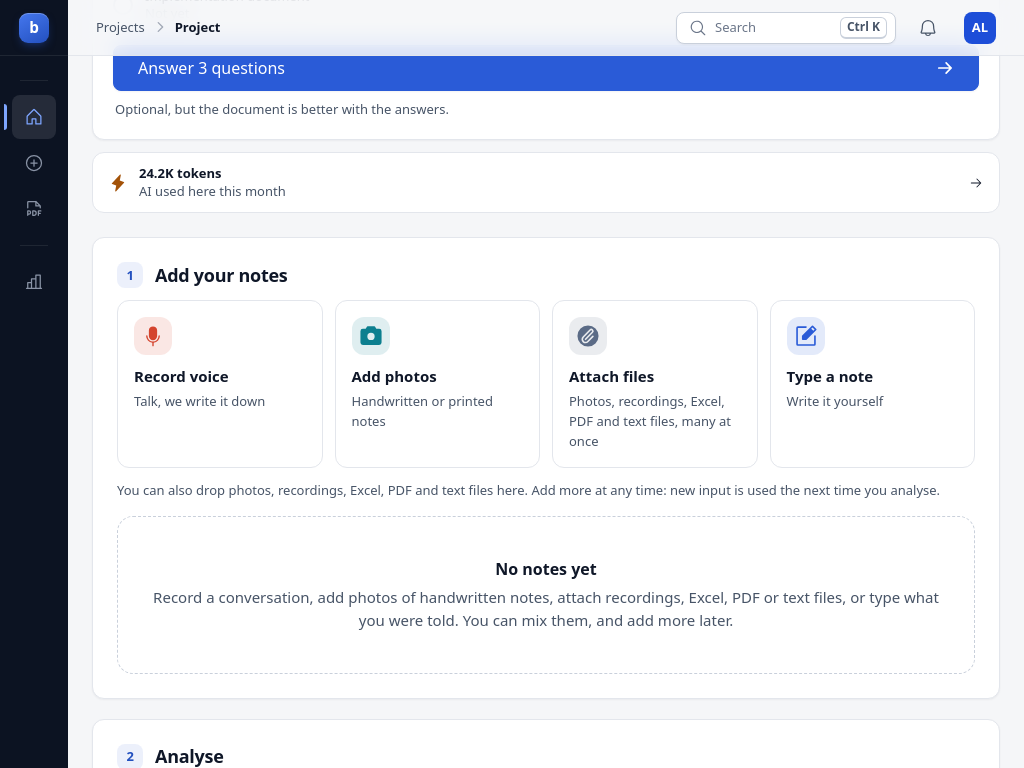
Scenario: the project page: notes › keeps a typed note on the device first, shows it as waiting, and does not save an empty one
(page scrolled)
Click the button "Type a note Write it yourself" at [872, 384], box [770,300,975,468]
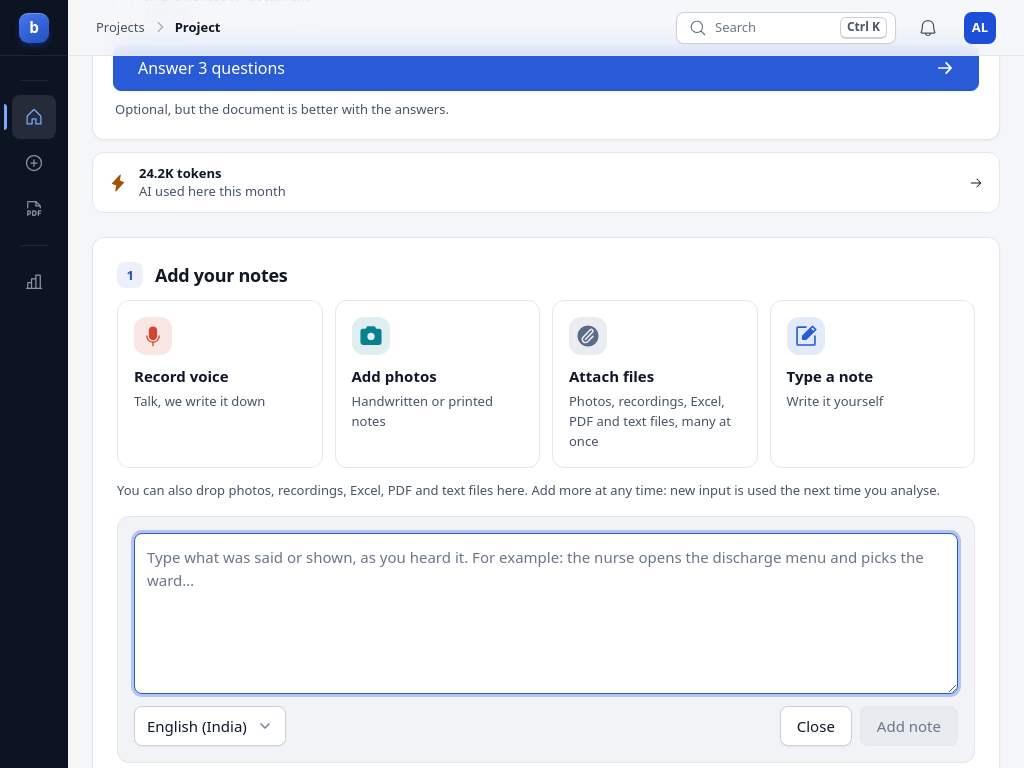
Expected: the button "Add note" is disabled, [860,706,958,746]
Type "The nurse picks the ward." into the text box named "Your note" at [546, 614], box [134,533,958,694]
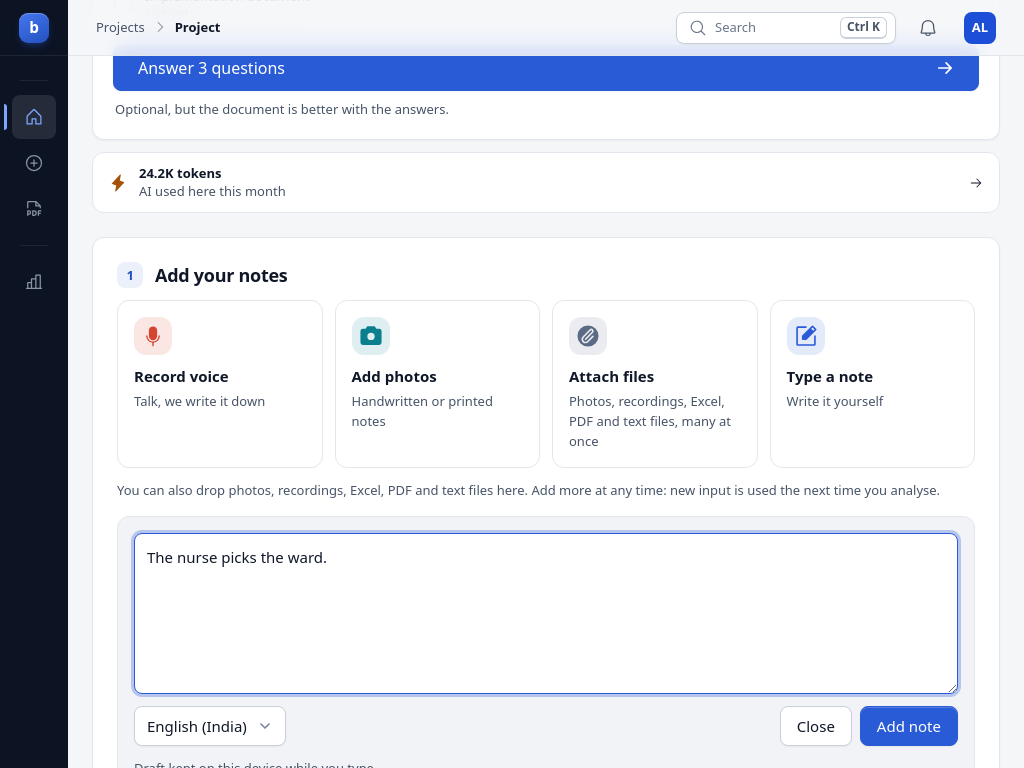
Click the button "Add note" at [909, 726], box [860,706,958,746]
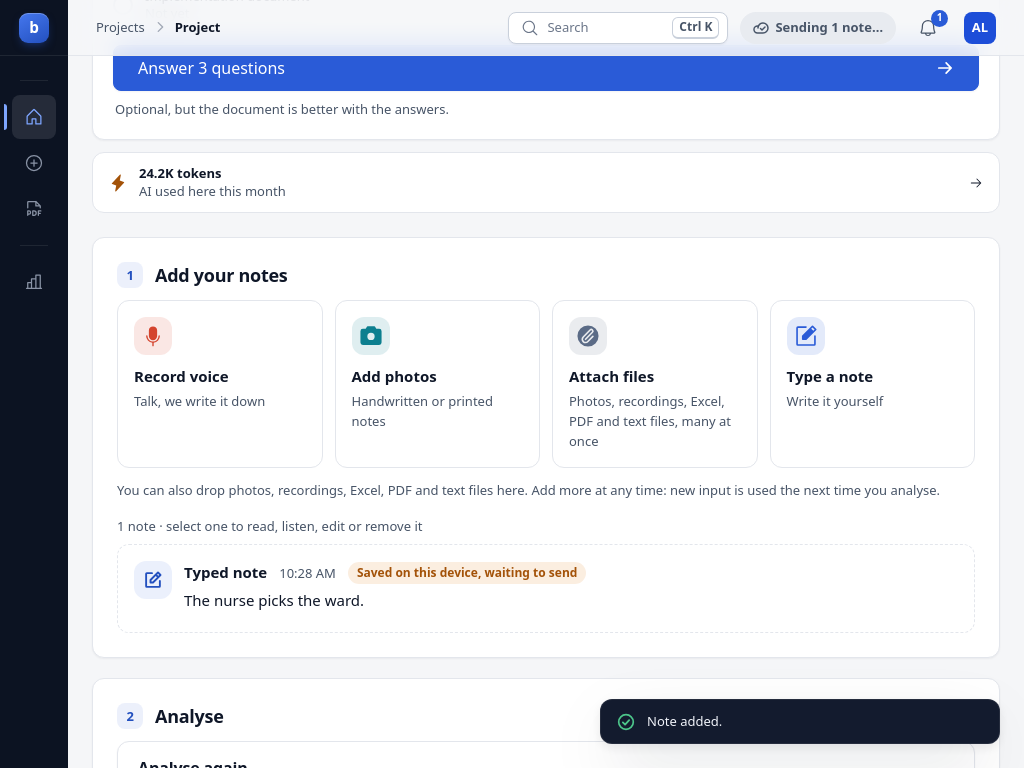
Expected: the text "Saved on this device, waiting to send" is shown, [348,562,586,584]
Expected: the text "The nurse picks the ward." is shown, [184,590,364,610]
